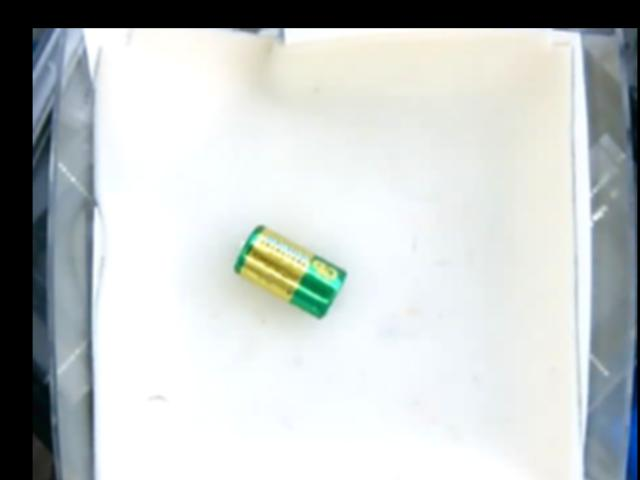Battery: (233, 223, 346, 317)
